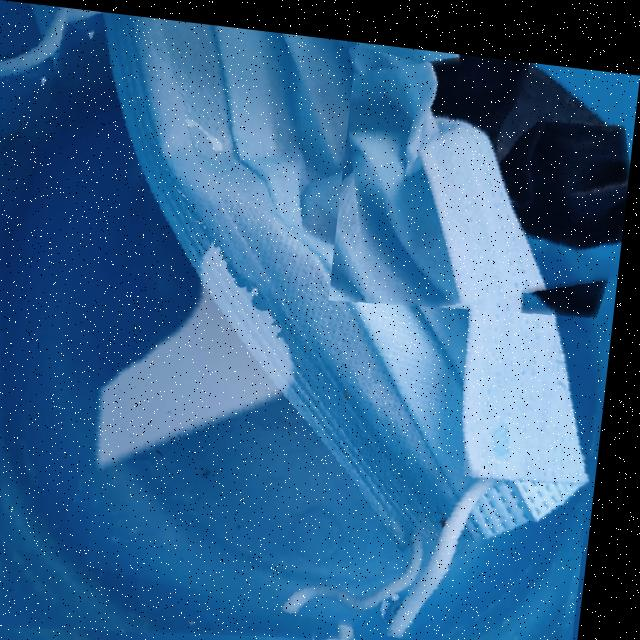litter: (0, 0, 635, 640), (334, 33, 640, 318)
